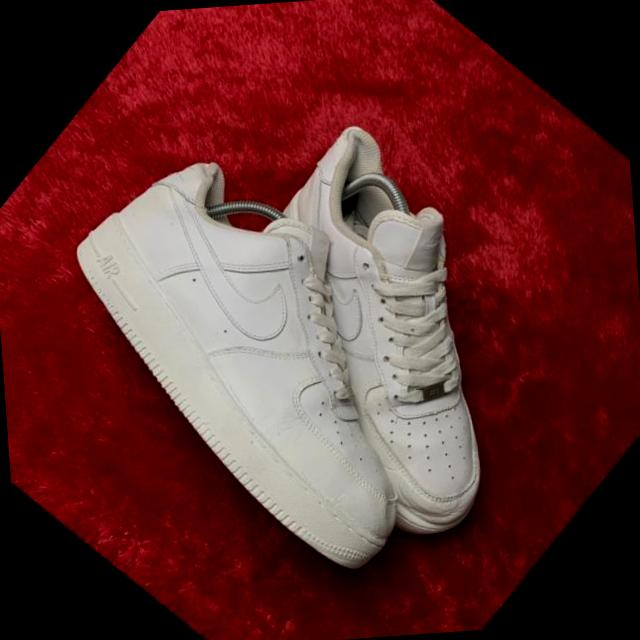nike_fake_airforce: (0, 98, 521, 611), (148, 95, 630, 574)
